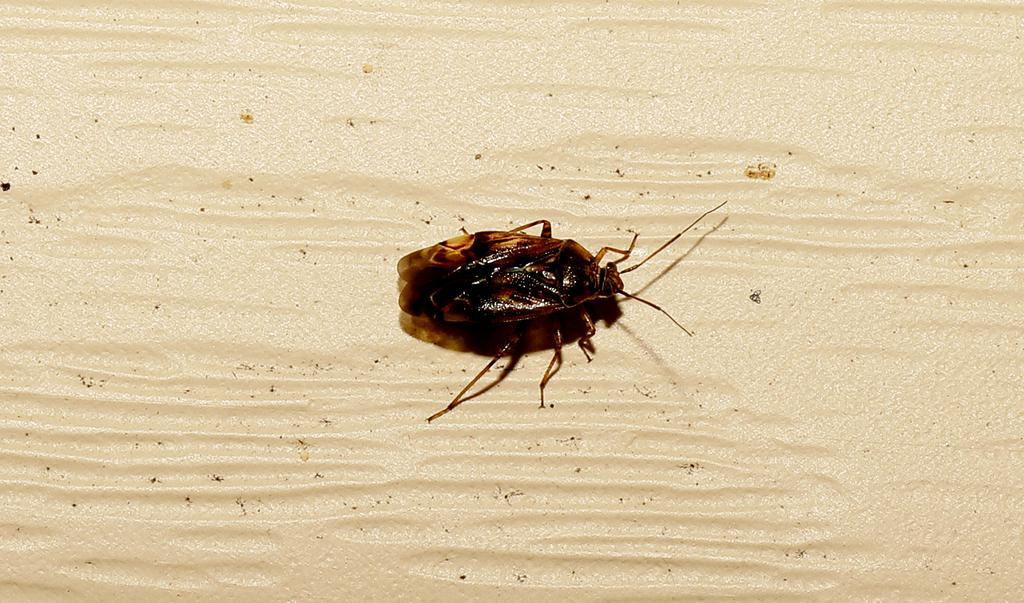plant_bugs: (366, 148, 739, 449)
